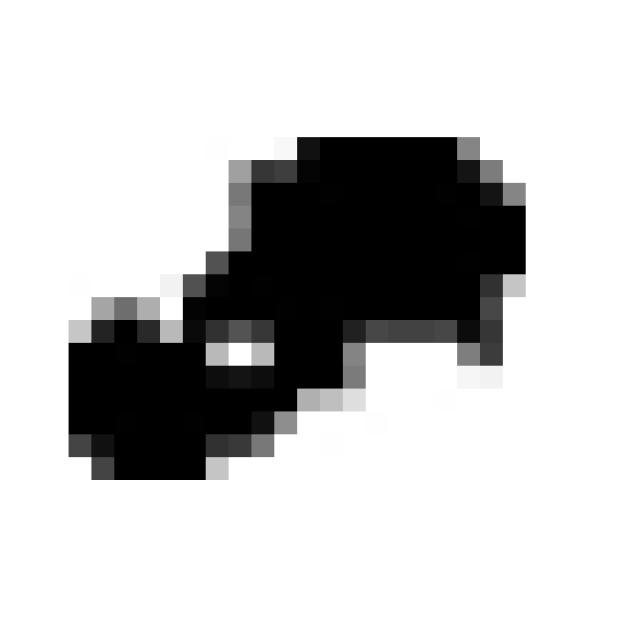0 -zero-: (55, 110, 542, 518)
